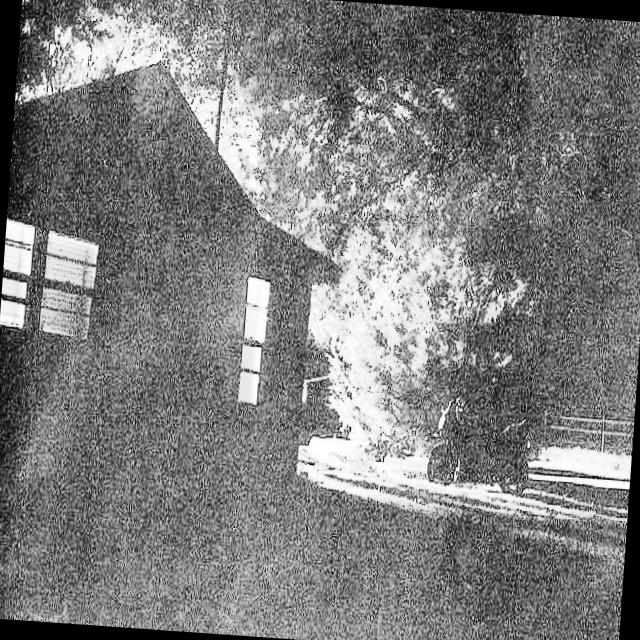Motorcycle: (404, 389, 552, 516)
